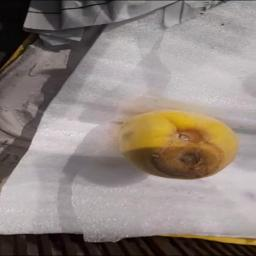Peach Rotten: (110, 98, 242, 187)
